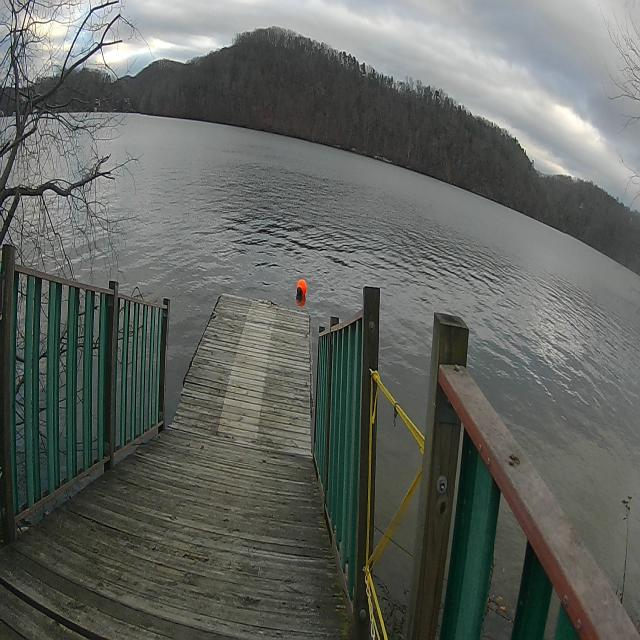Buoy: (294, 273, 308, 304)
